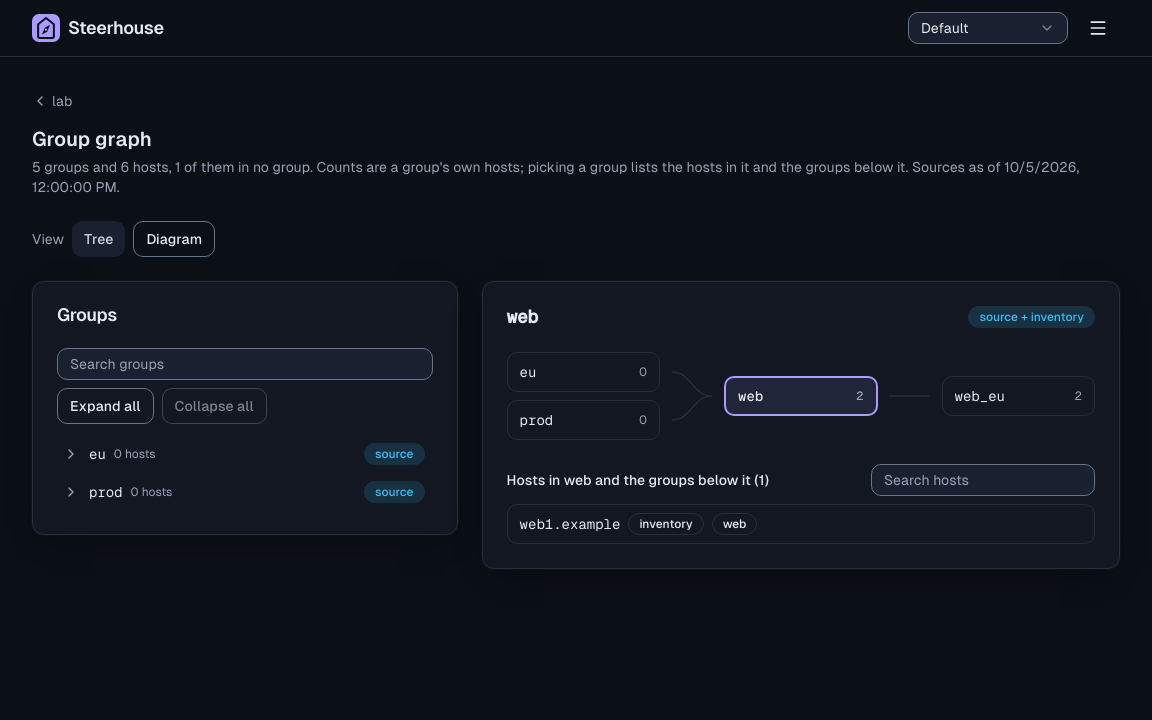
Test: inventory group graph › opens at a linked group with its parents, children and hosts
This screenshot has width=1152, height=720.
expect the button "web_eu 2" is shown: met, box [942,376,1095,416]
expect the text "Hosts in web and the groups below it (1)" is shown: met, box [507,470,769,490]
What coordinates should you click on to do the following:
click the button "prod 0"
I would click on:
 (583, 420)
Its box is [507,400,660,440].
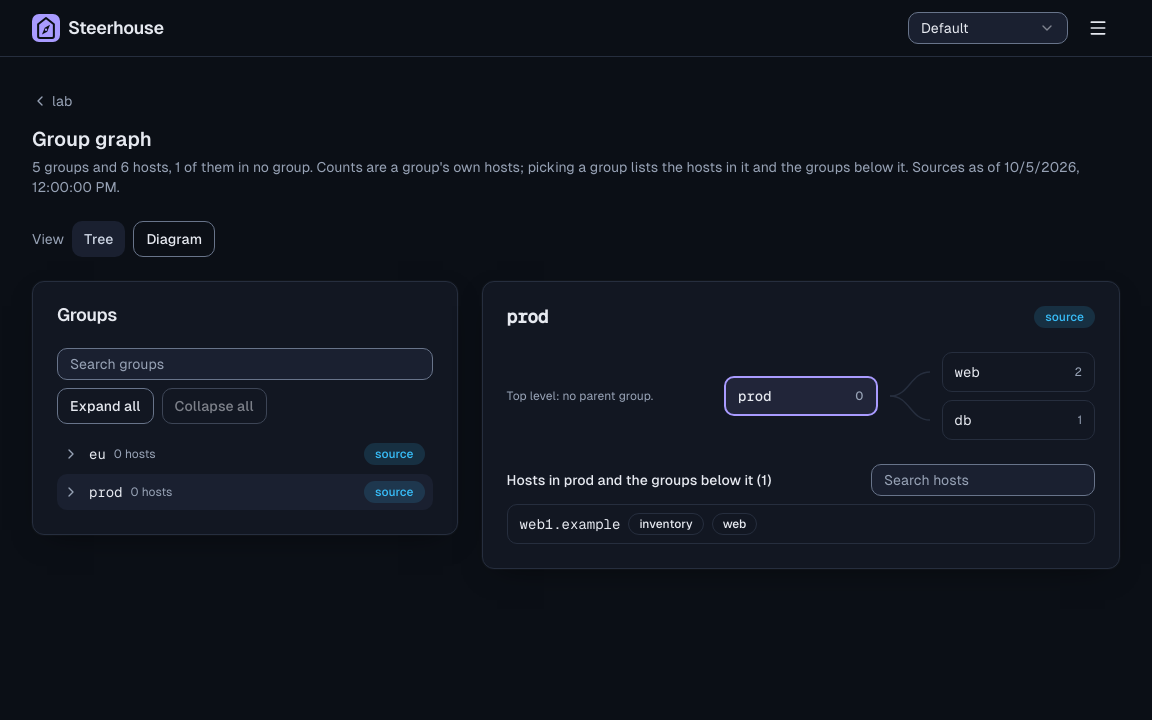
expect the element named "Where prod sits" is shown: met, box [507,352,1095,440]
expect the list item "Top level: no parent group." is shown: met, box [507,388,660,404]
expect the text "Hosts in prod and the groups below it" is shown: met, box [507,472,753,488]
